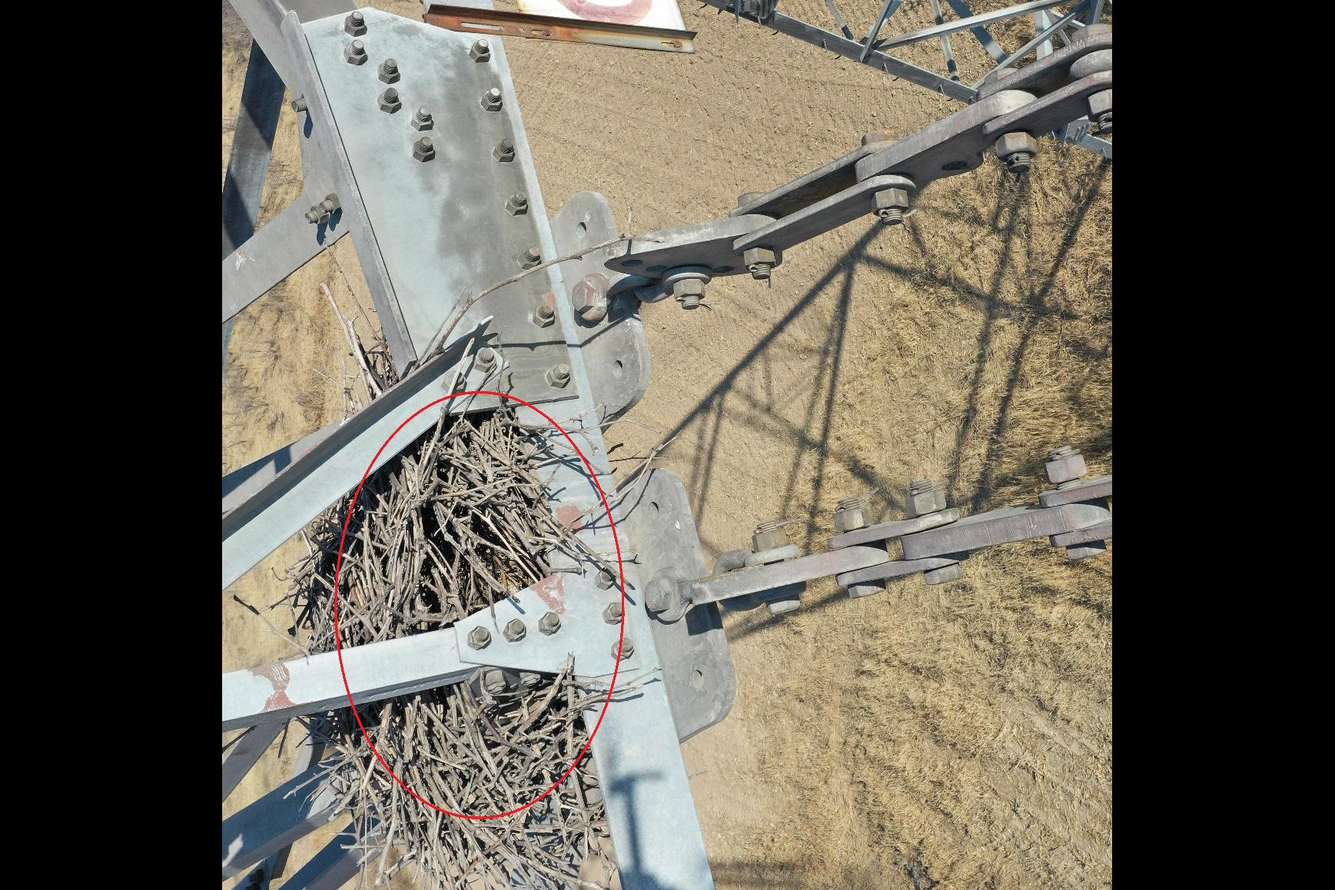nest: (276, 404, 607, 890)
